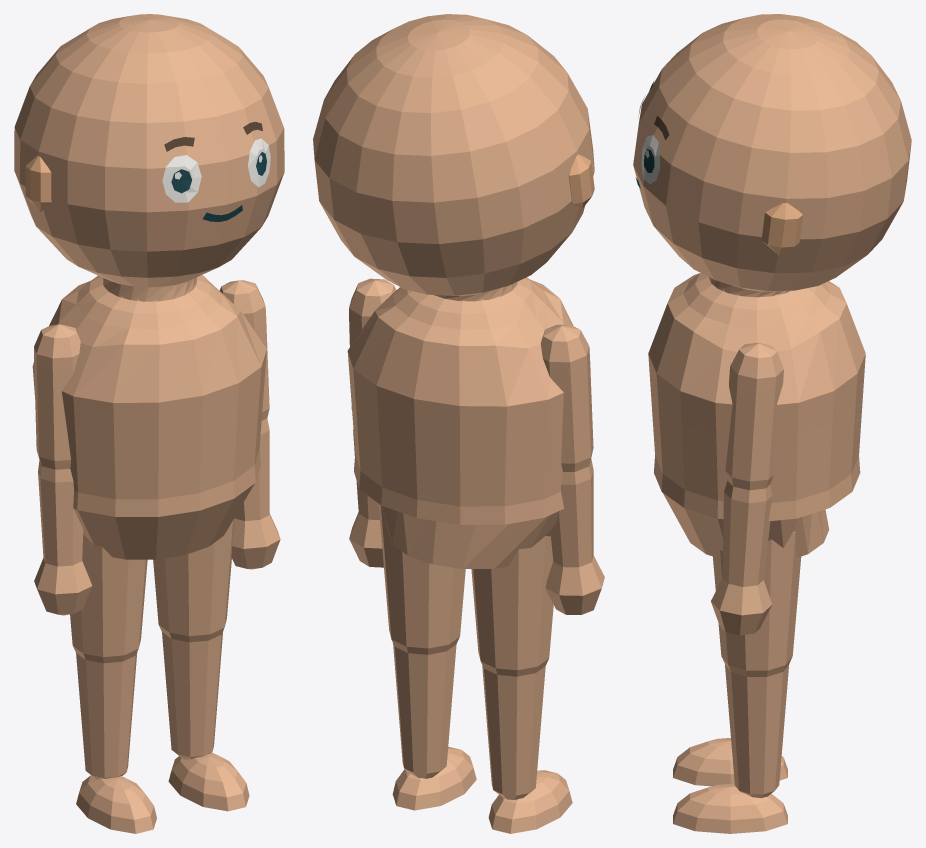
File: corps.glb
3 renders of one model, left to right at view 1: azimuth 30°, elevation 25°; view 2: azimuth 150°, elevation 25°; view 3: azimuth 270°, elevation 25°, orthographic. The views are drawn at different scales.
Parts seen in each view (by area): view 1: tete.001, torse.003, torse.004, tete.002, jambeD.001, jambeG.001, bassin.001, tibiaG.001, tibiaD.001, brasD.001, torse.005, avantBrasD.001 (+11 smaller); view 2: tete.001, torse.003, tete.002, torse.004, jambeD.001, jambeG.001, tibiaG.001, tibiaD.001, bassin.001, brasD.001, torse.005, avantBrasD.001 (+8 smaller); view 3: tete.001, torse.003, tete.002, torse.004, brasG.001, tibiaG.001, jambeG.001, avantBrasG.001, torse.005, tibiaG.002, bassin.001, torse.006 (+5 smaller).
Boxes of the visible parts, box(x1,y1,x2,y2) form: tete.001: box(14, 47, 284, 301); torse.003: box(32, 350, 266, 516); torse.004: box(32, 300, 266, 402); tete.002: box(55, 14, 242, 83); jambeD.001: box(70, 534, 147, 663); jambeG.001: box(153, 517, 234, 642); bassin.001: box(74, 483, 254, 559); tibiaG.001: box(162, 631, 223, 759); tibiaD.001: box(76, 652, 137, 778); brasD.001: box(34, 324, 80, 469); torse.005: box(59, 280, 240, 346); avantBrasD.001: box(38, 460, 83, 566); tete.001: box(313, 35, 594, 301); torse.003: box(347, 351, 590, 524); tete.002: box(346, 14, 538, 112); torse.004: box(347, 299, 590, 406); jambeD.001: box(471, 536, 553, 676); jambeG.001: box(379, 505, 465, 654); tibiaG.001: box(393, 643, 456, 778); tibiaD.001: box(482, 665, 545, 799); bassin.001: box(377, 502, 559, 568); brasD.001: box(540, 324, 593, 471); torse.005: box(375, 279, 563, 348); avantBrasD.001: box(551, 458, 593, 567); tete.001: box(633, 33, 911, 297); torse.003: box(648, 354, 865, 521); tete.002: box(689, 14, 878, 110); torse.004: box(648, 303, 865, 404); brasG.001: box(725, 342, 783, 490); tibiaG.001: box(725, 664, 789, 798); jambeG.001: box(713, 531, 801, 676); avantBrasG.001: box(722, 481, 771, 586); torse.005: box(667, 273, 846, 351); tibiaG.002: box(673, 784, 787, 833); bassin.001: box(662, 492, 829, 557); torse.006: box(683, 274, 830, 329).
Bounding box in the file's own units: 0.618 × 1.77 × 0.5772.
